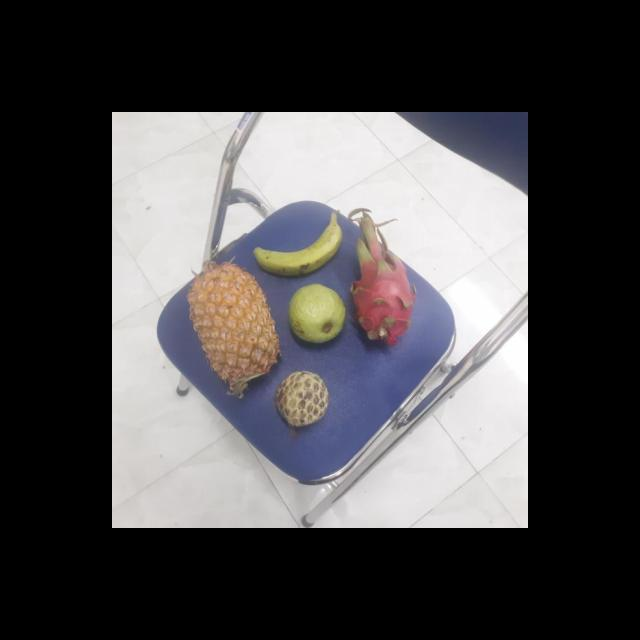Sakya fruit: (274, 370, 332, 428)
banana: (251, 210, 339, 278)
guava: (286, 284, 346, 347)
pineapple: (182, 266, 278, 392)
pitaya: (342, 237, 414, 341)
